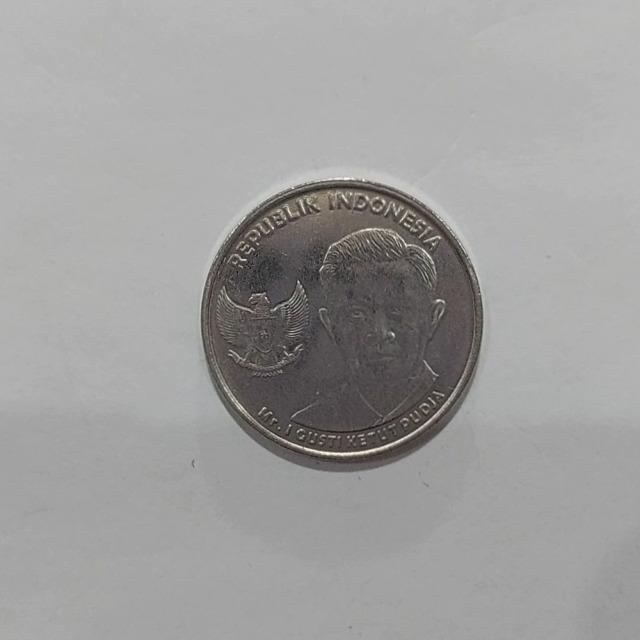Rp100: (199, 174, 485, 469)
